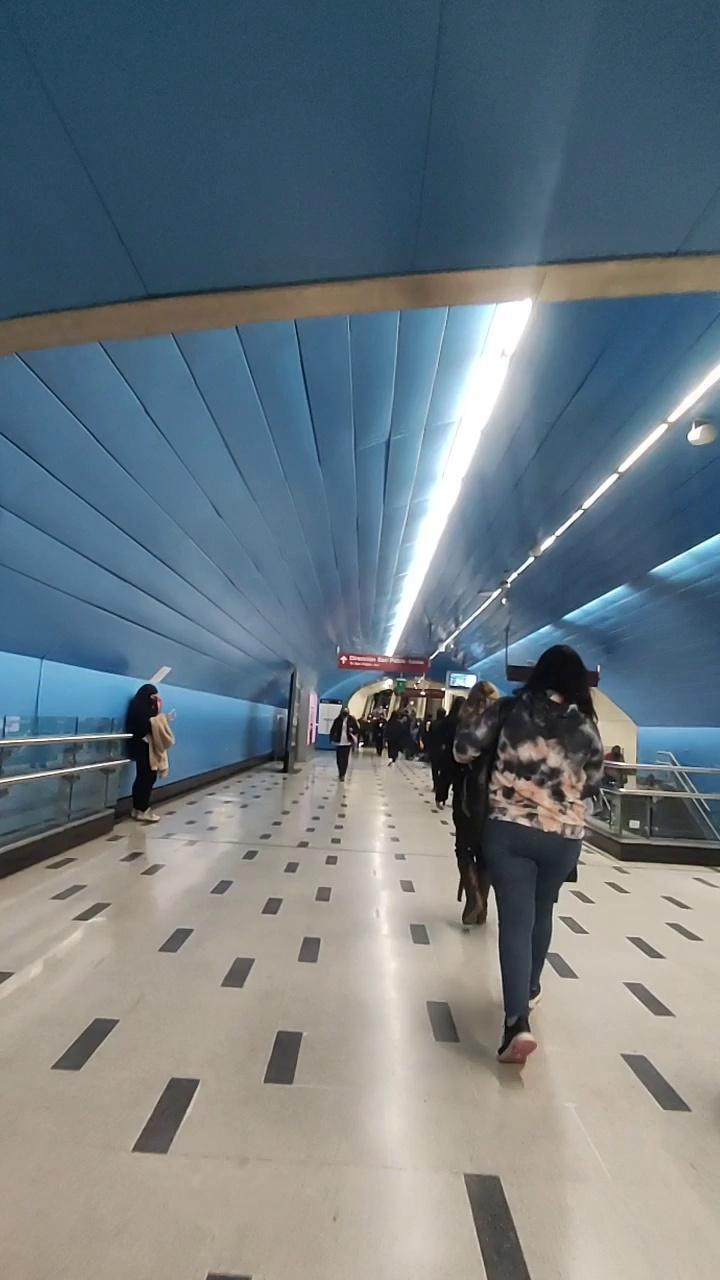up arrow: (339, 652, 348, 666)
